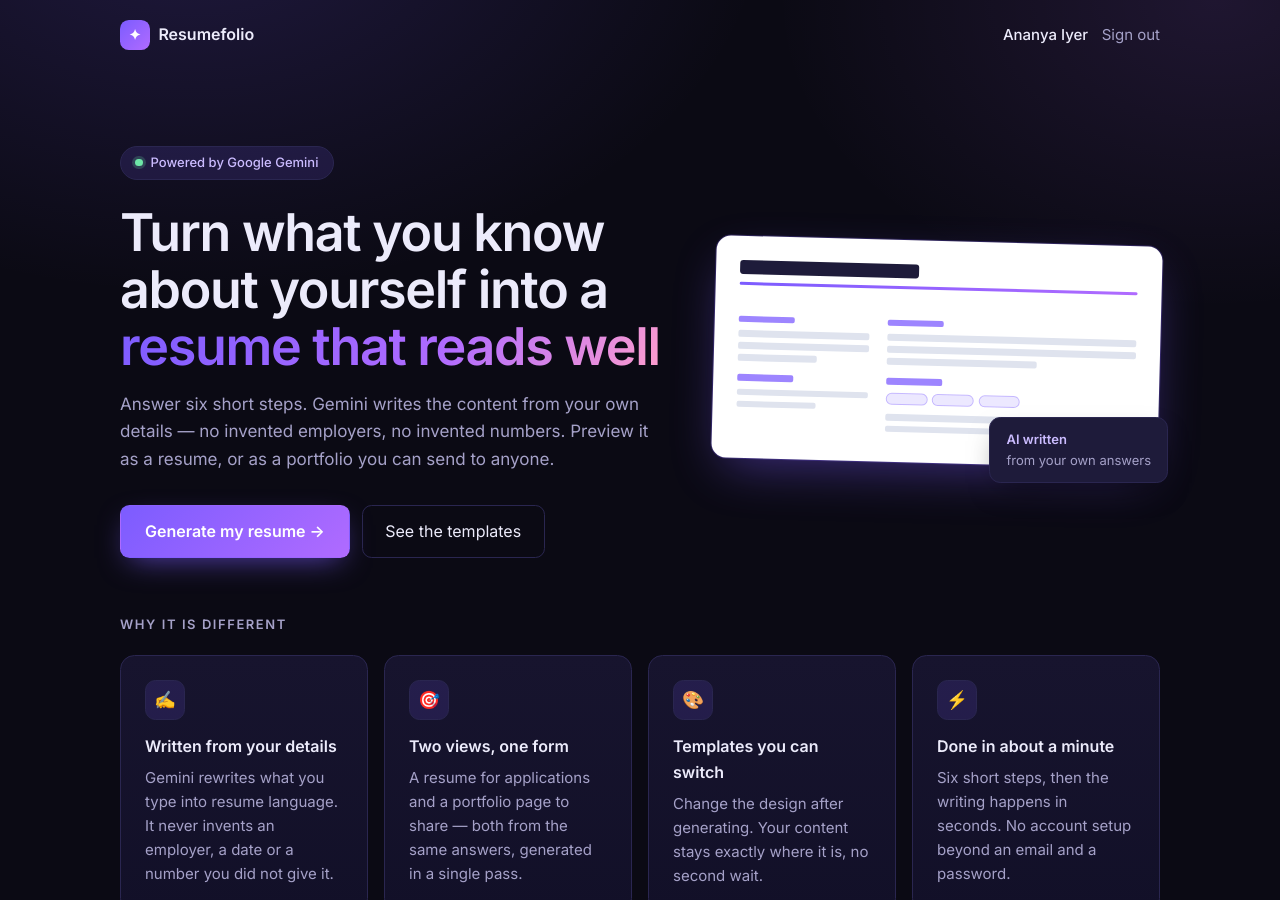
Test: session persistence › signing out returns to home and clears the name
Click the button "Sign out" at (1131, 35), box [1102, 23, 1160, 47]
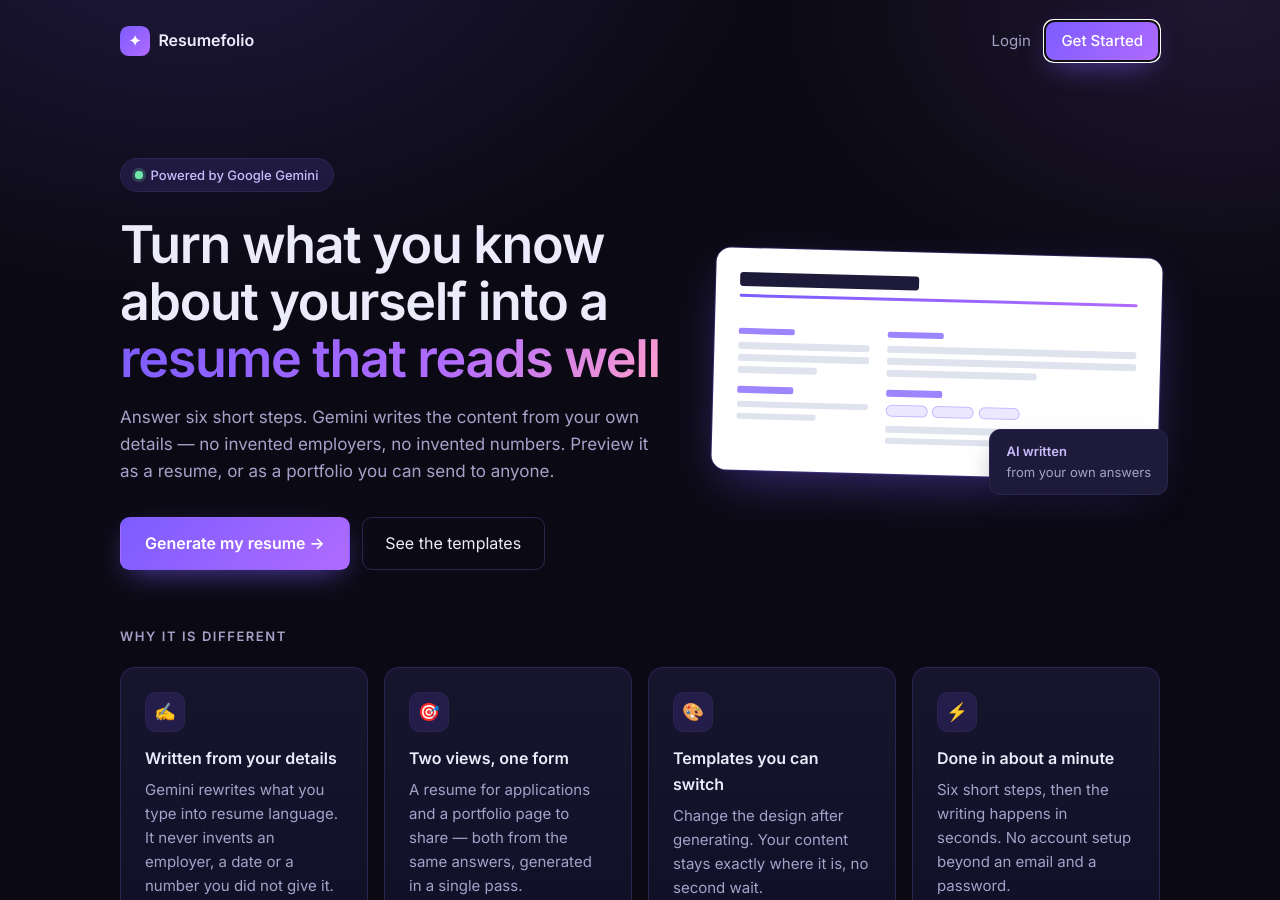
Expected: the heading that starts with "Turn what you know about yourself into a" is shown, [120, 213, 608, 333]
Result: the text "Ananya Iyer" is gone
